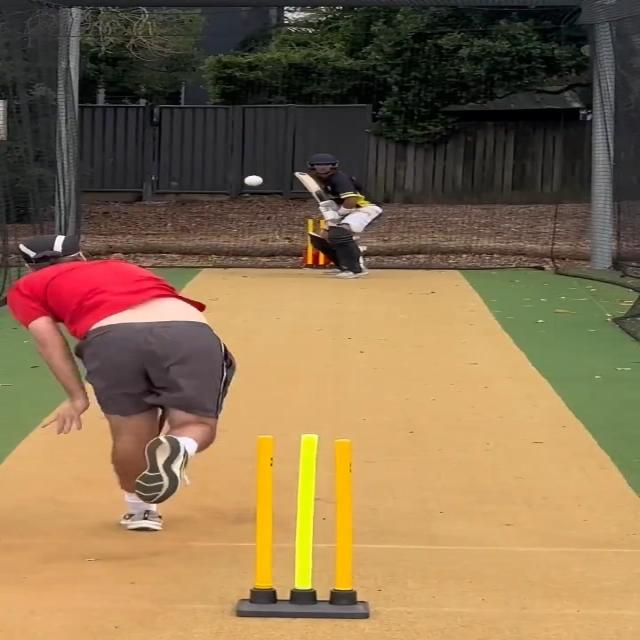ball: (241, 173, 267, 189)
stump: (237, 432, 368, 620)
